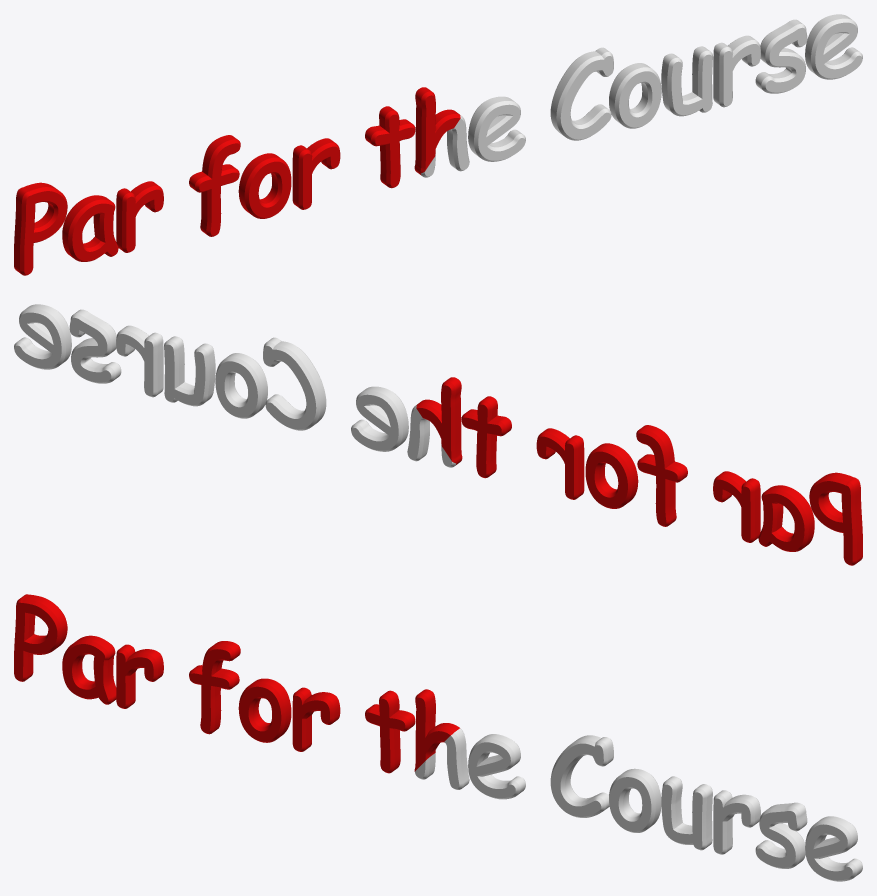
3 renders of one model, top to bottom at view 1: azimuth 30°, elevation 25°; view 2: azimuth 150°, elevation 25°; view 3: azimuth 330°, elevation 25°, orthographic.
Parts seen in each view (by area): view 1: h, C, P, e_2, e_1, a, u, f, s, o_1, o_2, t (+3 smaller); view 2: h, C, P, e_2, e_1, a, u, f, s, o_1, o_2, t (+3 smaller); view 3: h, P, C, a, u, s, e_1, e_2, f, o_1, o_2, t (+3 smaller).
Part boxes in pixels (x1,y1,x2,y2): h: (414, 87, 469, 177); C: (550, 47, 613, 140); P: (14, 182, 67, 275); e_2: (805, 14, 862, 79); e_1: (468, 96, 525, 161); a: (62, 195, 118, 261); u: (661, 46, 712, 116); f: (189, 135, 240, 236); s: (755, 19, 807, 93); o_1: (238, 153, 291, 218); o_2: (609, 63, 661, 128); t: (365, 106, 415, 188); h: (407, 377, 462, 467); C: (263, 337, 326, 430); P: (809, 472, 862, 565); e_2: (14, 304, 71, 369); e_1: (351, 386, 408, 451); a: (758, 485, 814, 551); u: (164, 336, 215, 406); f: (636, 425, 687, 526); s: (69, 309, 121, 383); o_1: (585, 443, 638, 508); o_2: (215, 353, 267, 418); t: (461, 396, 511, 478); h: (414, 689, 469, 789); P: (14, 594, 67, 681); C: (550, 735, 613, 817); a: (62, 635, 116, 704); u: (661, 776, 712, 850); s: (755, 802, 807, 868); e_1: (468, 734, 525, 799); e_2: (805, 816, 862, 881); f: (189, 641, 240, 734); o_1: (238, 678, 291, 742); o_2: (609, 768, 661, 832); t: (365, 690, 415, 773).
Size of the model in its own units: 124 by 13.05 by 2.5.
